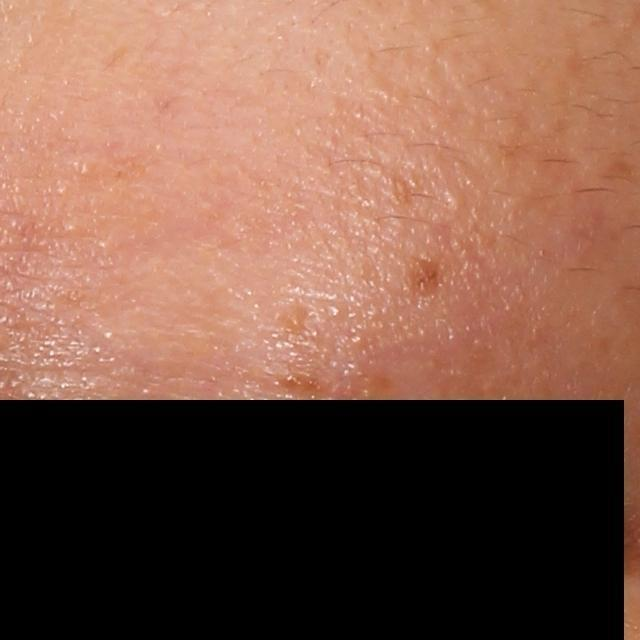comedo: (441, 182, 475, 215)
melasma: (495, 108, 599, 186), (404, 257, 452, 303)
